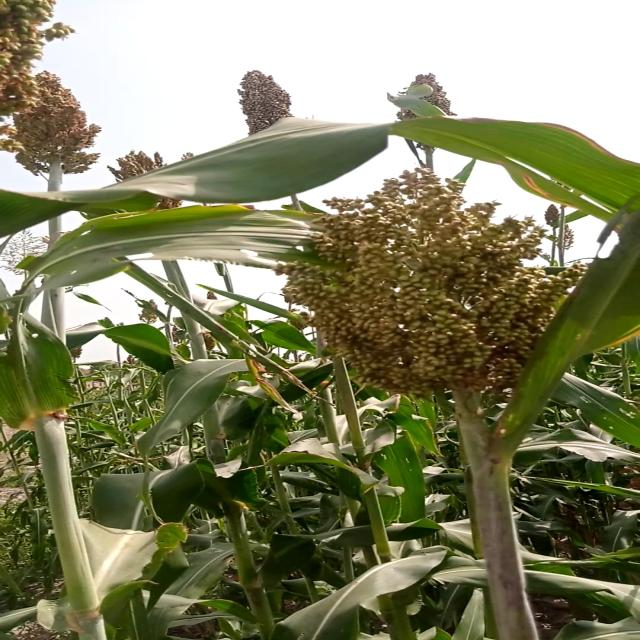UnripeSorghum: (284, 157, 574, 402), (0, 55, 116, 183), (210, 58, 316, 147)
